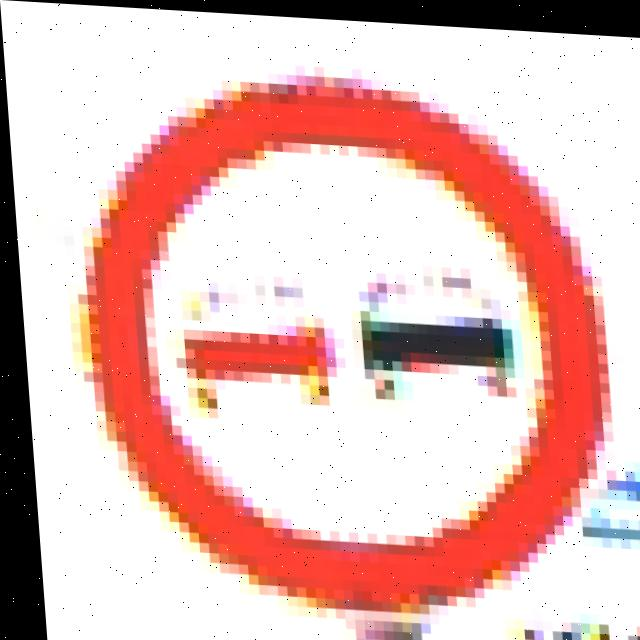no_overtaking: (74, 70, 583, 597)
